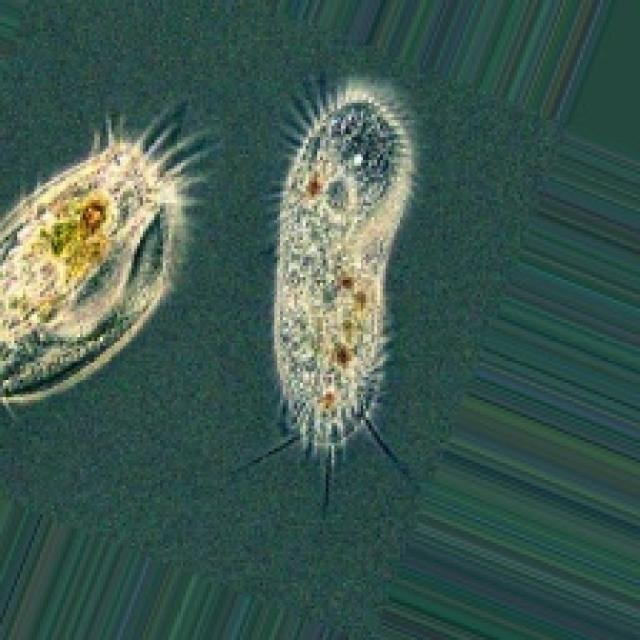Amoeba: (240, 62, 448, 536), (2, 93, 216, 457)
